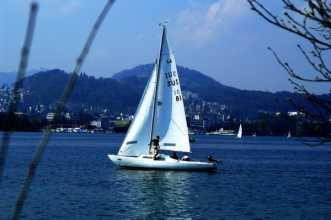fanchuan: (106, 21, 231, 171)
